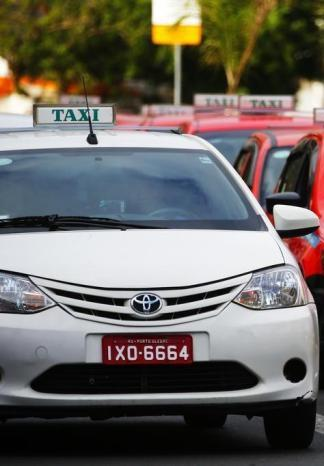placa_antiga: (102, 333, 194, 366)
